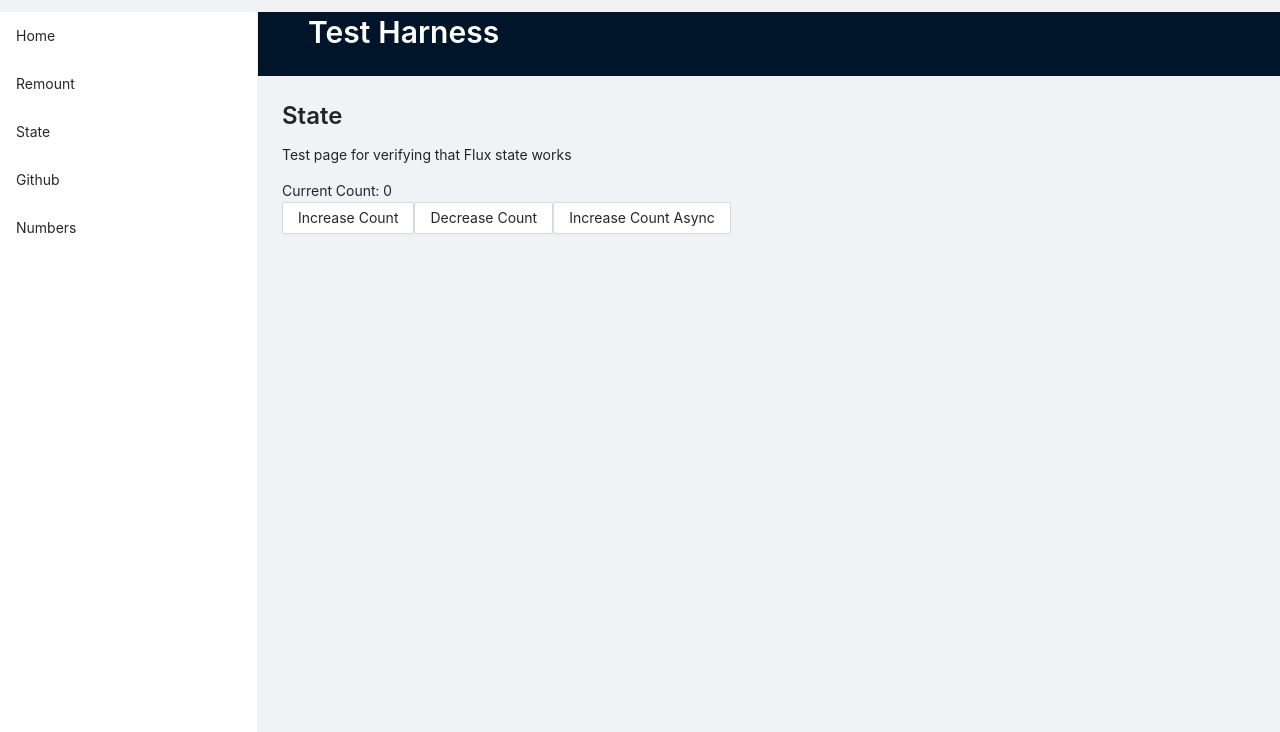
Scenario: State › Increases the counter value
Expected: the text with class "cy-count" shows "0", [282,182,392,199]
Click the button with class "cy-inc".
click(349, 218)  # box [282,202,415,234]
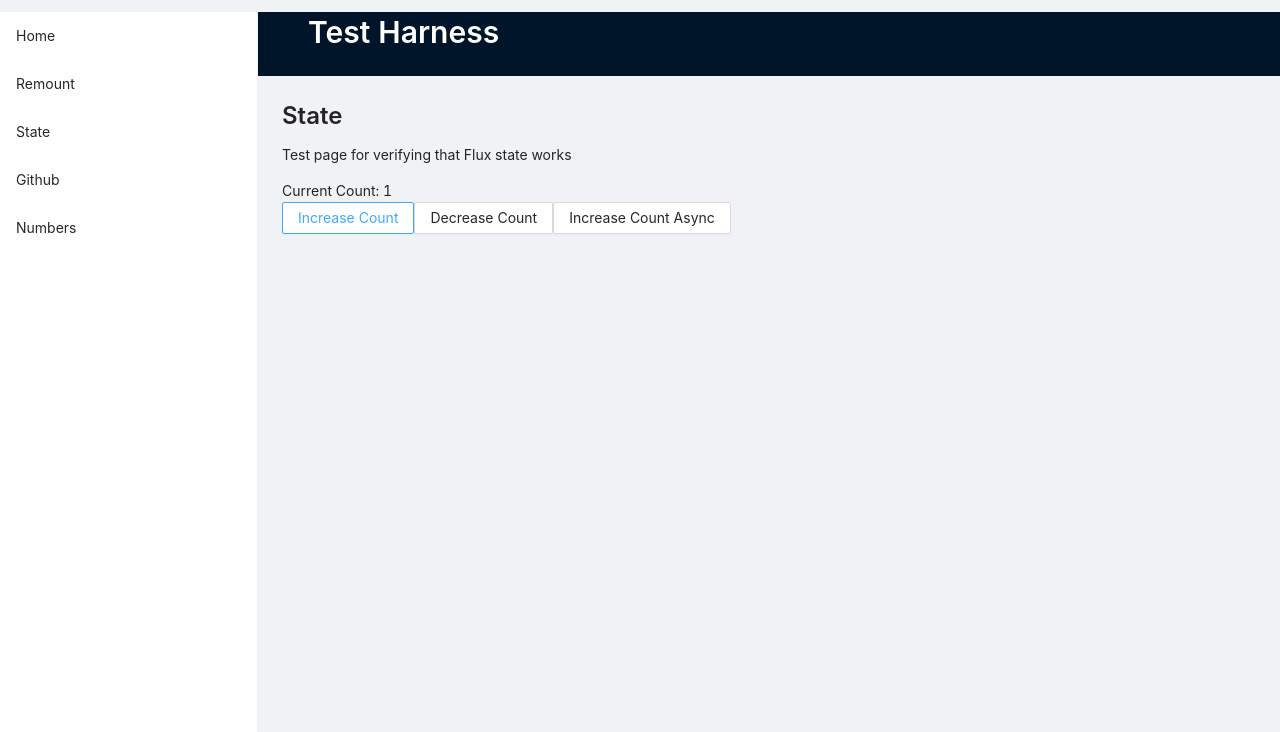
Expected: the text with class "cy-count" shows "1", [282,182,392,199]
